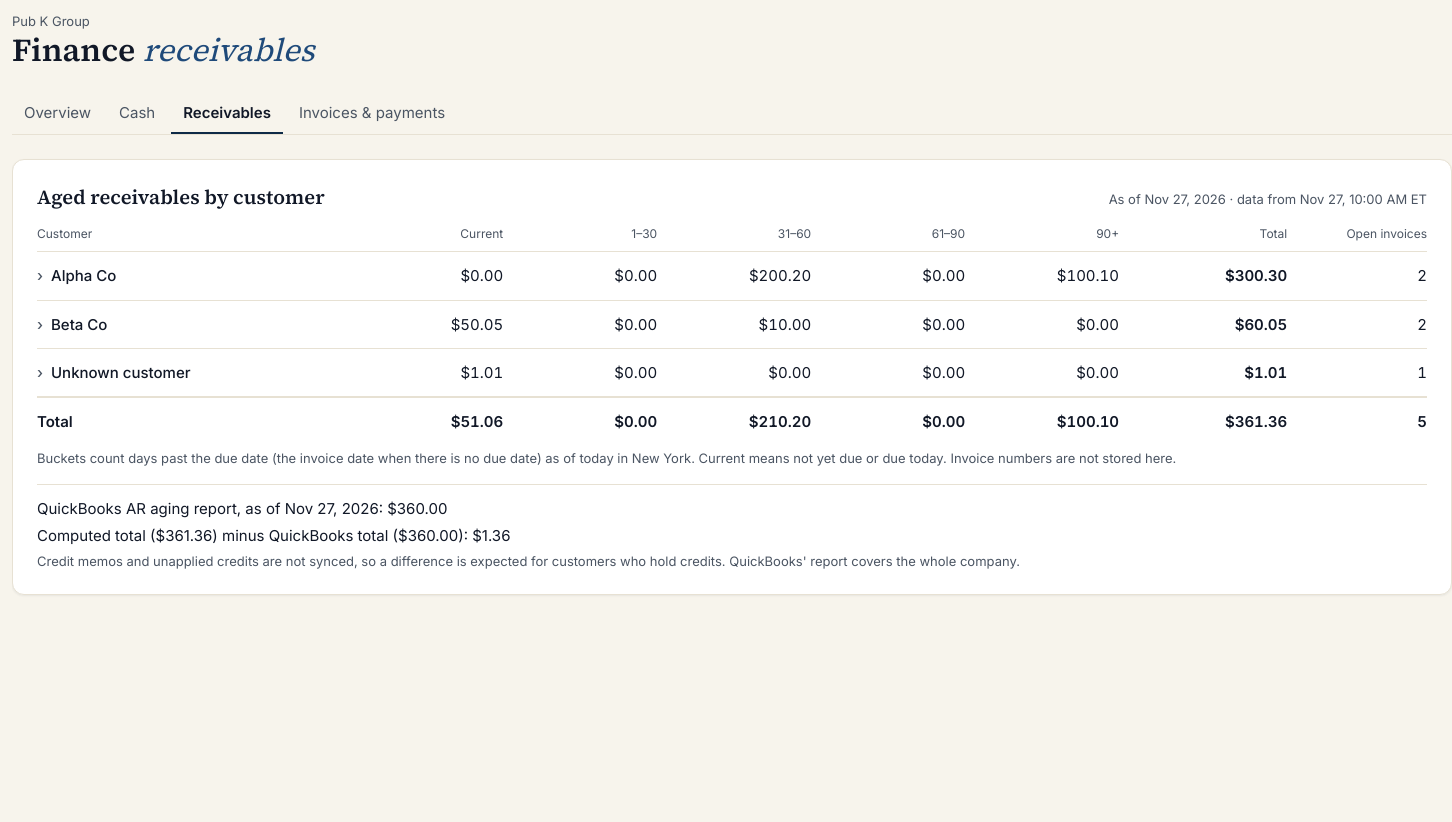
Receivables tab › a customer's open invoices open under its row (a button with aria-expanded), oldest first, with days overdue and balance; no invoice number, no customer id
This screenshot has width=1452, height=822.
Click the button "› Alpha Co" at (77, 276), box [37, 264, 116, 288]
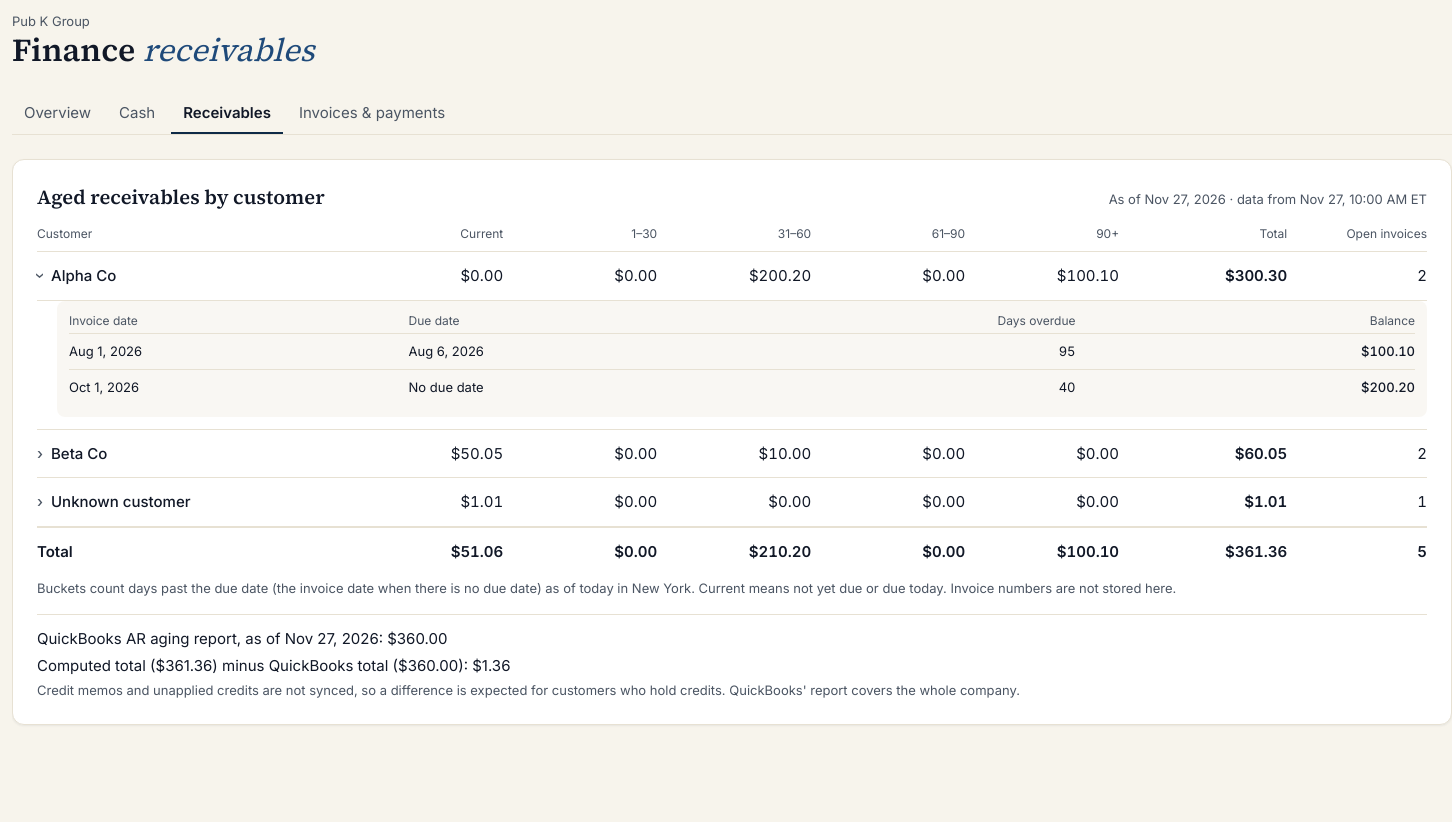
Expected: the button "› Alpha Co" is expanded
Expected: the row with test id "finance-ar-invoice" shows "95", [1059, 343, 1076, 359]
Expected: the row with test id "finance-ar-invoice" shows "$100.10", [1361, 343, 1415, 359]
Click the button "› Alpha Co" at (77, 276), box [37, 264, 116, 288]
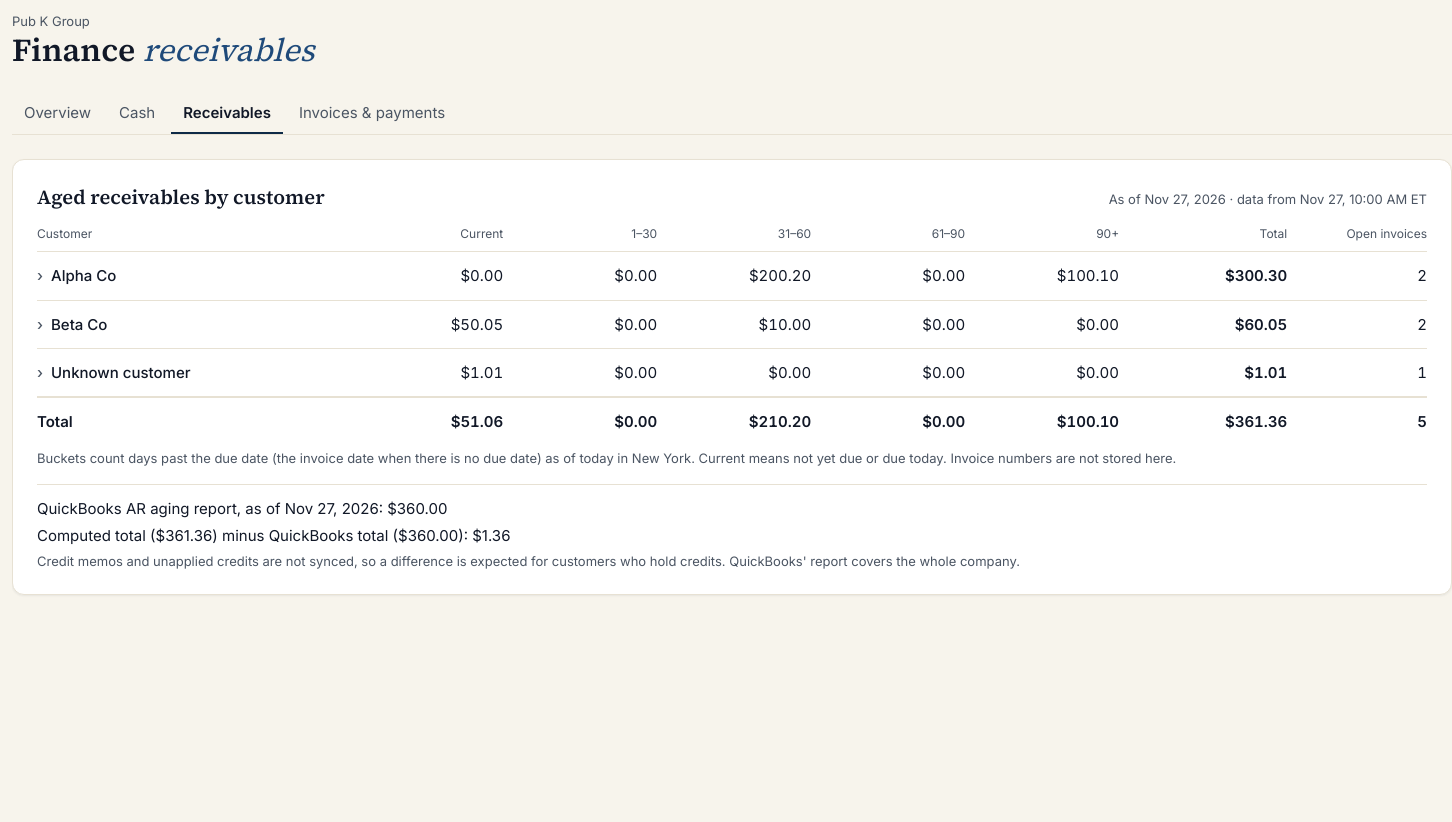
Expected: the text with test id "finance-ar-rule" shows "Invoice numbers are not stored", [37, 450, 1176, 466]
Expected: the cell with test id "finance-ar-detail" is gone
